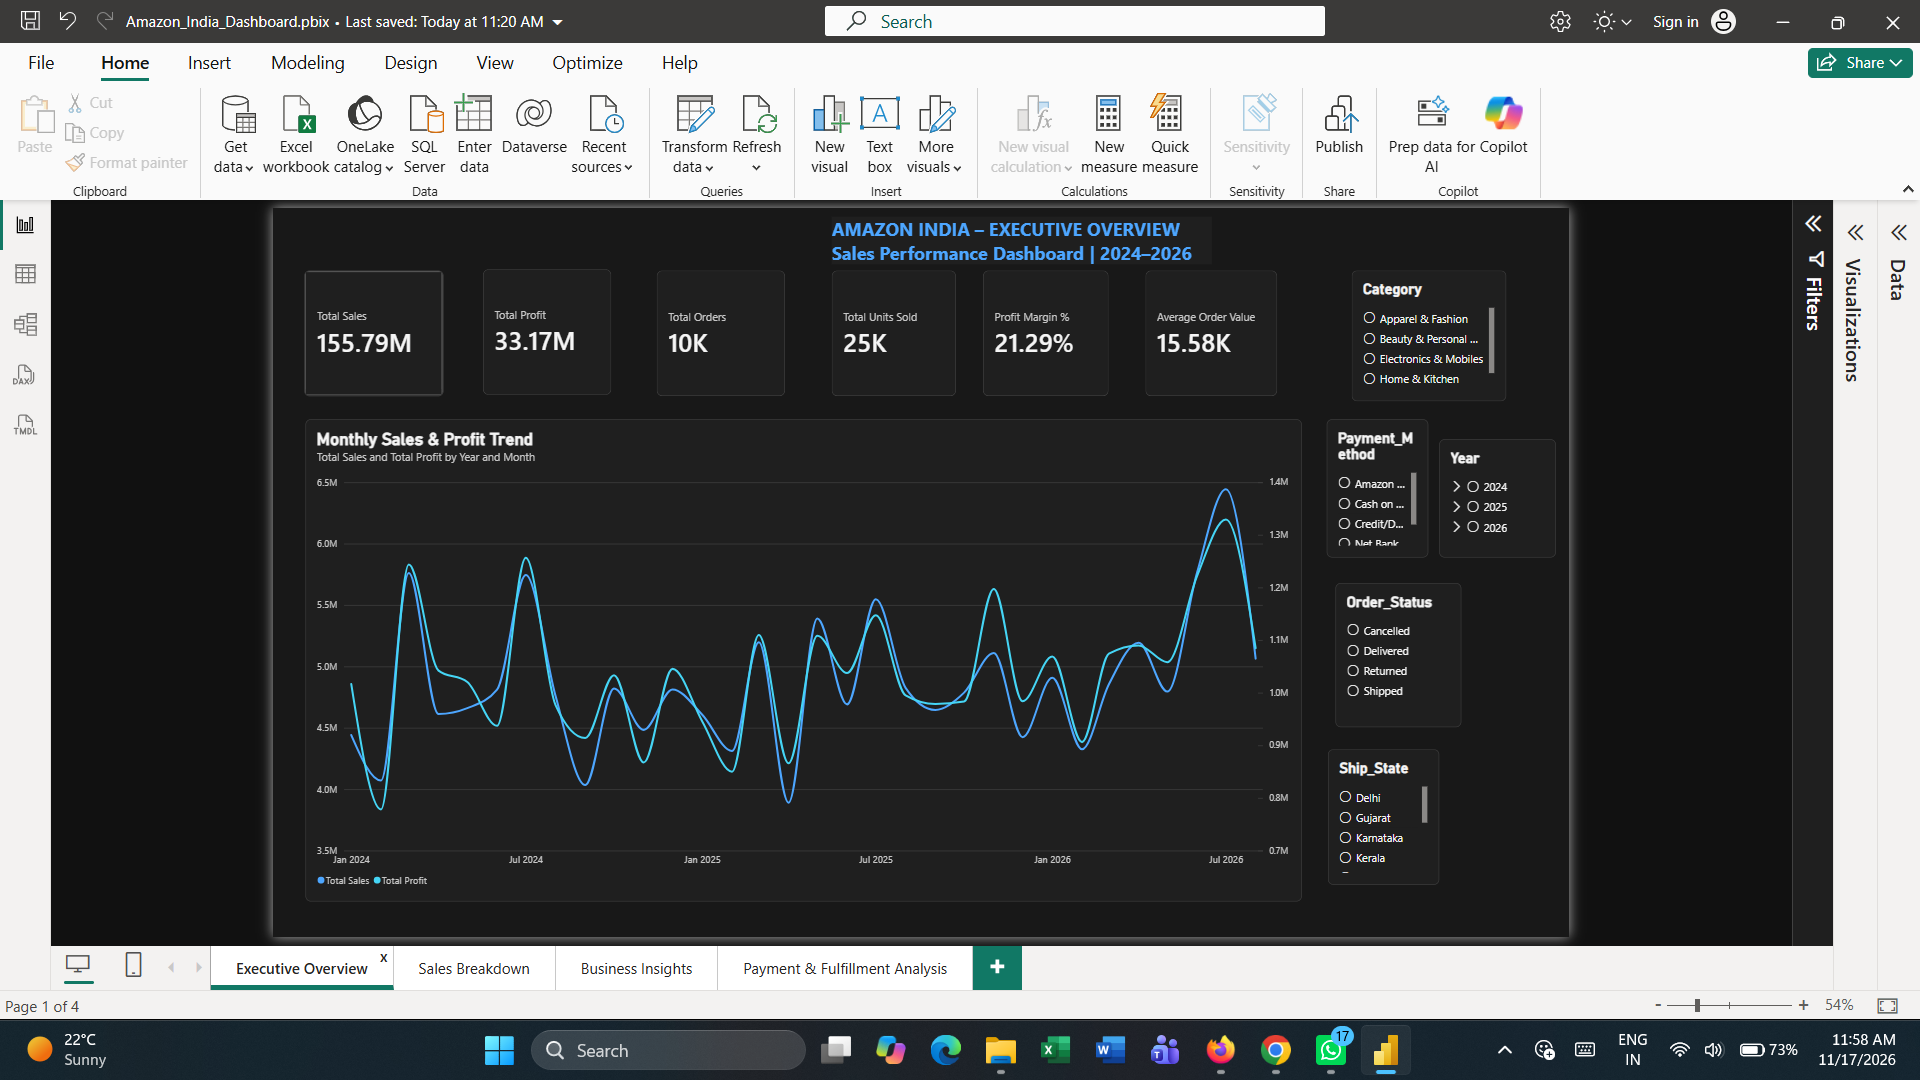

What the dashboard file says about the page in this screenshot:
{"tool":"powerbi","page":{"name":"Executive Overview","canvas":[1920,1080],"ordinal":0},"visuals":[{"type":"cardVisual","fields":{"Data":["Sheet1.Total Sales"]},"box":[47.1,92.3,206.3,186.4],"z":0},{"type":"cardVisual","fields":{"Data":["Sheet1.Total Profit"]},"box":[311.3,90.5,190,186.4],"z":1000},{"type":"cardVisual","fields":{"Data":["Sheet1.Total Units Sold"]},"box":[827,92.3,184.6,186.4],"z":2000},{"type":"cardVisual","fields":{"Data":["Sheet1.Total Orders"]},"box":[568.2,92.3,190,186.4],"z":3000},{"type":"cardVisual","fields":{"Data":["Sheet1.Profit Margin %"]},"box":[1051.4,92.3,186.4,186.4],"z":4000},{"type":"cardVisual","fields":{"Data":["Sheet1.Average Order Value"]},"box":[1292.1,92.3,195.4,186.4],"z":5000},{"type":"lineChart","title":"Monthly Sales & Profit Trend","fields":{"Category":["Sheet1.Order_Date.Variation.Date Hierarchy.Year","Sheet1.Order_Date.Variation.Date Hierarchy.Month"],"Y":["Sheet1.Total Sales"],"Y2":["Sheet1.Total Profit"]},"box":[47.3,312.9,1475.8,714.2],"z":6000},{"type":"listSlicer","fields":{"Values":["Sheet1.Category"]},"box":[1597.9,92.3,228.5,193.5],"z":6001},{"type":"listSlicer","fields":{"Values":["Sheet1.Ship_State"]},"box":[1563.5,801.7,164.7,200.9],"z":6003},{"type":"listSlicer","fields":{"Values":["Sheet1.Payment_Method"]},"box":[1561.7,313.1,150.2,204.5],"z":6004},{"type":"listSlicer","fields":{"Values":["Sheet1.Order_Status"]},"box":[1574.4,555.6,186.4,213.5],"z":6005},{"type":"textbox","box":[827,12.7,562.8,70.6],"z":6006},{"type":"listSlicer","fields":{"Values":["Sheet1.Order_Date.Variation.Date Hierarchy.Year","Sheet1.Order_Date.Variation.Date Hierarchy.Quarter","Sheet1.Order_Date.Variation.Date Hierarchy.Month","Sheet1.Order_Date.Variation.Date Hierarchy.Day"]},"box":[1727.6,342.1,173.2,175.3],"z":6007}]}

Visuals, with their boxes on the page's 1920x1080 design canvas (x1, y1, x2, y2). These are canvas units, not pixel positions in the 1920x1080 screenshot, which may show the page scaled, cropped or inside an application window:
cardVisual - Sheet1.Total Sales: [x1=47, y1=92, x2=253, y2=279]
cardVisual - Sheet1.Total Profit: [x1=311, y1=90, x2=501, y2=277]
cardVisual - Sheet1.Total Units Sold: [x1=827, y1=92, x2=1012, y2=279]
cardVisual - Sheet1.Total Orders: [x1=568, y1=92, x2=758, y2=279]
cardVisual - Sheet1.Profit Margin %: [x1=1051, y1=92, x2=1238, y2=279]
cardVisual - Sheet1.Average Order Value: [x1=1292, y1=92, x2=1488, y2=279]
"Monthly Sales & Profit Trend" lineChart: [x1=47, y1=313, x2=1523, y2=1027]
listSlicer - Sheet1.Category: [x1=1598, y1=92, x2=1826, y2=286]
listSlicer - Sheet1.Ship_State: [x1=1564, y1=802, x2=1728, y2=1003]
listSlicer - Sheet1.Payment_Method: [x1=1562, y1=313, x2=1712, y2=518]
listSlicer - Sheet1.Order_Status: [x1=1574, y1=556, x2=1761, y2=769]
textbox: [x1=827, y1=13, x2=1390, y2=83]
listSlicer - Sheet1.Order_Date.Variation.Date Hierarchy.Year x Sheet1.Order_Date.Variation.Date Hierarchy.Quarter: [x1=1728, y1=342, x2=1901, y2=517]
